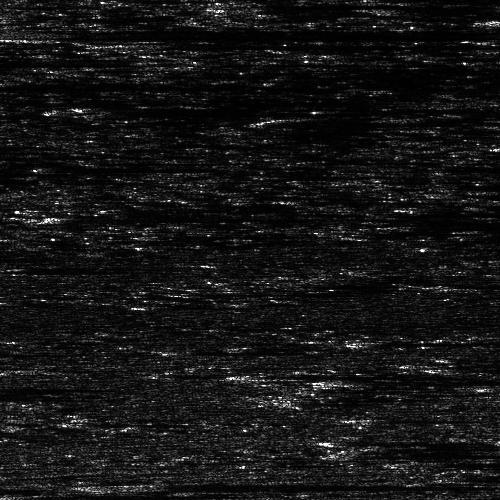object: (95, 0, 398, 22), (358, 452, 483, 473), (0, 207, 119, 228), (303, 443, 408, 460), (0, 26, 96, 43), (379, 277, 472, 288), (195, 368, 288, 379), (297, 375, 380, 386), (81, 480, 164, 489), (259, 113, 332, 122), (297, 438, 360, 443), (340, 415, 393, 420), (459, 18, 500, 23), (487, 1, 500, 14), (31, 165, 62, 170), (123, 42, 154, 47), (0, 267, 29, 272)
shadow: (52, 207, 500, 228), (247, 0, 500, 22), (3, 26, 193, 43), (123, 480, 478, 489), (356, 443, 500, 460), (242, 368, 404, 379), (338, 375, 500, 386), (421, 452, 500, 473), (296, 113, 442, 122), (0, 388, 115, 399), (0, 383, 125, 390), (426, 277, 500, 288), (329, 438, 478, 443), (367, 415, 474, 420), (138, 42, 240, 47), (47, 165, 117, 170), (3, 267, 70, 272), (480, 18, 500, 23)
